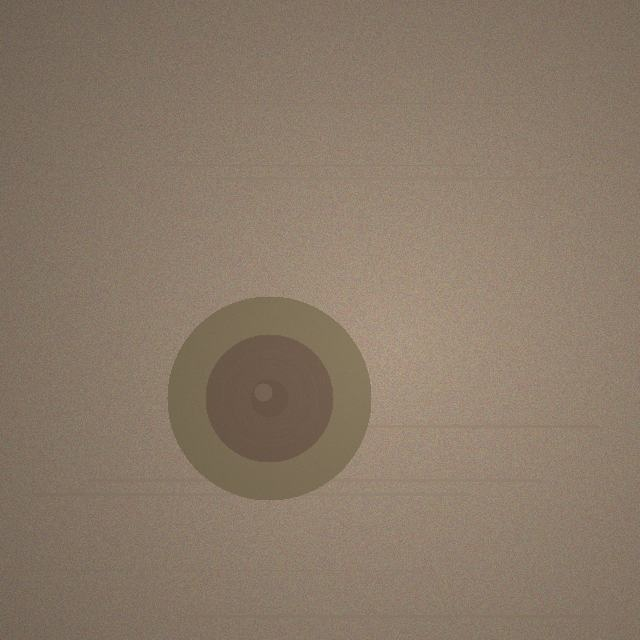good: (167, 296, 371, 500)
